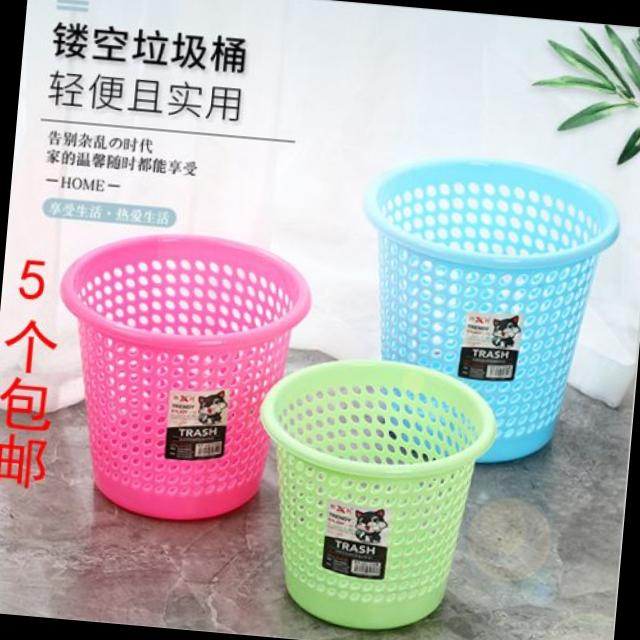dustbin: (340, 140, 628, 478), (40, 218, 322, 536), (240, 344, 503, 640)
